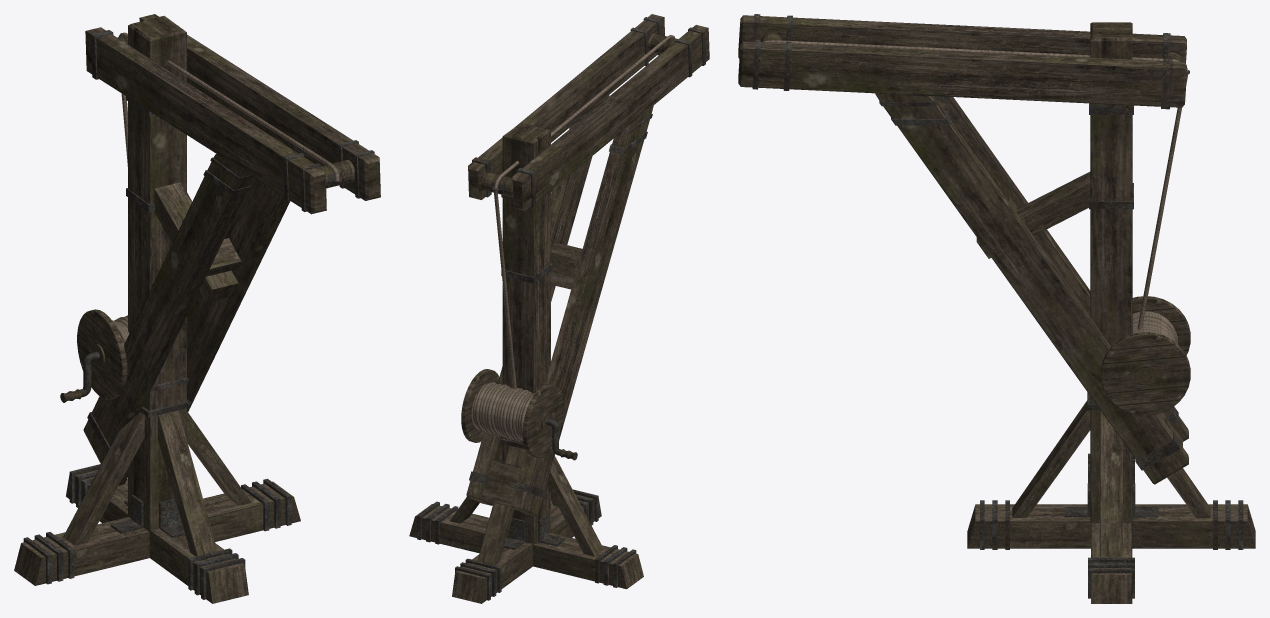
The model's file is Boat_Crane_Main.fbx.
3 renders of one model, left to right at view 1: azimuth 30°, elevation 25°; view 2: azimuth 150°, elevation 25°; view 3: azimuth 270°, elevation 25°, orthographic. The views are drawn at different scales.
Parts seen in each view (by area): view 1: Boat_Crane_Main; view 2: Boat_Crane_Main; view 3: Boat_Crane_Main.
Part boxes in pixels (left/top/right/bottom): Boat_Crane_Main: left=14, top=14, right=380, bottom=603; Boat_Crane_Main: left=409, top=14, right=709, bottom=603; Boat_Crane_Main: left=738, top=14, right=1255, bottom=603.
Size of the model in its own units: 191 by 357 by 328.
